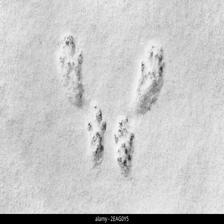squirrel: (83, 109, 112, 160)
